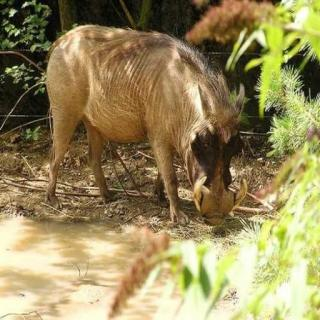Pig: (28, 38, 270, 250)
